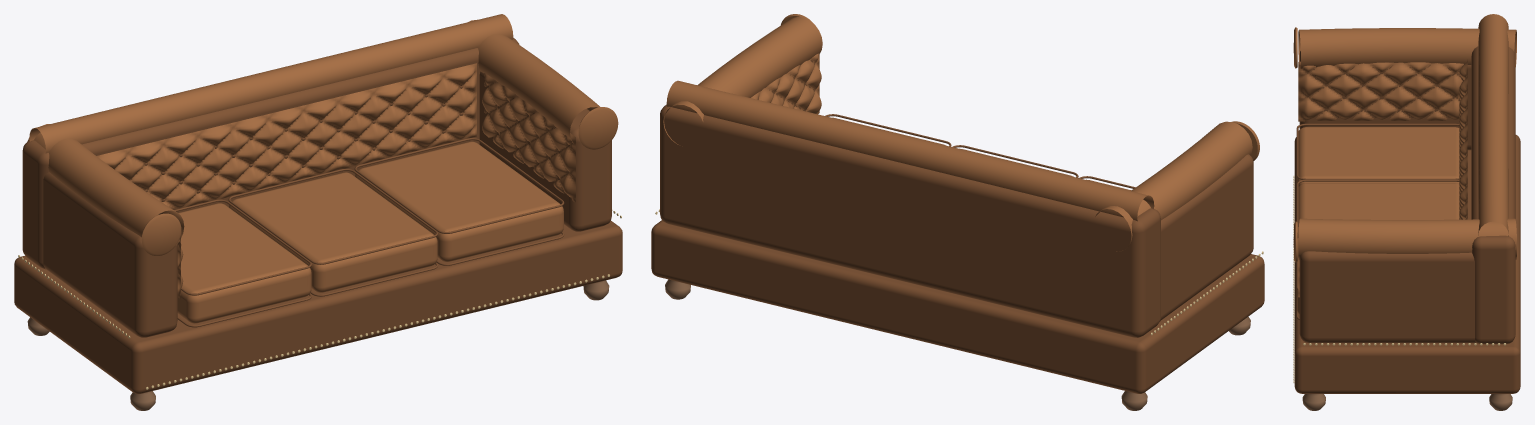
Rendered from chesterfield.glb.
The picture shows the model from 3 angles, left to right: view 1: azimuth 30°, elevation 25°; view 2: azimuth 150°, elevation 25°; view 3: azimuth 270°, elevation 25°; orthographic projection. The views are drawn at different scales.
Visible parts, largest first — view 1: Base, BackTufting, Cushion.001, Cushion.002, BackRoll, ArmCore, Cushion, BackCore, ArmTufting.001, ArmRoll, ArmCore.001, ArmRoll.001 (+5 smaller); view 2: BackCore, Base, BackRoll, ArmCore, ArmRoll, ArmRoll.001, ArmTufting.001, ArmCore.001; view 3: ArmCore.001, Base, ArmTufting, Cushion, BackCore, ArmRoll.001, ArmRoll, BackRoll, Cushion.001, ArmCore, BackTufting, Piping (+3 smaller).
Boxes of the visible parts, x1,y1,x2,y2 form: Base: [14, 221, 622, 394]; BackTufting: [97, 63, 476, 209]; Cushion.001: [229, 172, 437, 292]; Cushion.002: [355, 141, 563, 261]; BackRoll: [29, 14, 513, 153]; ArmCore: [43, 172, 177, 337]; Cushion: [177, 203, 311, 323]; BackCore: [22, 38, 519, 269]; ArmTufting.001: [482, 73, 575, 202]; ArmRoll: [27, 124, 184, 245]; ArmCore.001: [479, 71, 611, 231]; ArmRoll.001: [469, 19, 599, 143]; BackCore: [660, 104, 1160, 337]; Base: [651, 220, 1264, 393]; BackRoll: [666, 80, 1154, 221]; ArmCore: [1105, 154, 1253, 336]; ArmRoll: [1095, 121, 1252, 251]; ArmRoll.001: [663, 17, 822, 144]; ArmTufting.001: [751, 53, 821, 114]; ArmCore.001: [667, 60, 814, 230]; ArmCore.001: [1299, 251, 1476, 343]; Base: [1294, 135, 1520, 393]; ArmTufting: [1298, 61, 1463, 121]; Cushion: [1297, 127, 1459, 186]; BackCore: [1471, 38, 1515, 344]; ArmRoll.001: [1298, 218, 1516, 259]; ArmRoll: [1298, 28, 1516, 68]; BackRoll: [1478, 14, 1508, 237]; Cushion.001: [1297, 183, 1459, 237]; ArmCore: [1299, 51, 1471, 150]; BackTufting: [1459, 59, 1467, 219]; Piping: [1296, 123, 1459, 179].
Bounding box in the file's own units: 2.11 × 0.853 × 0.9252.
